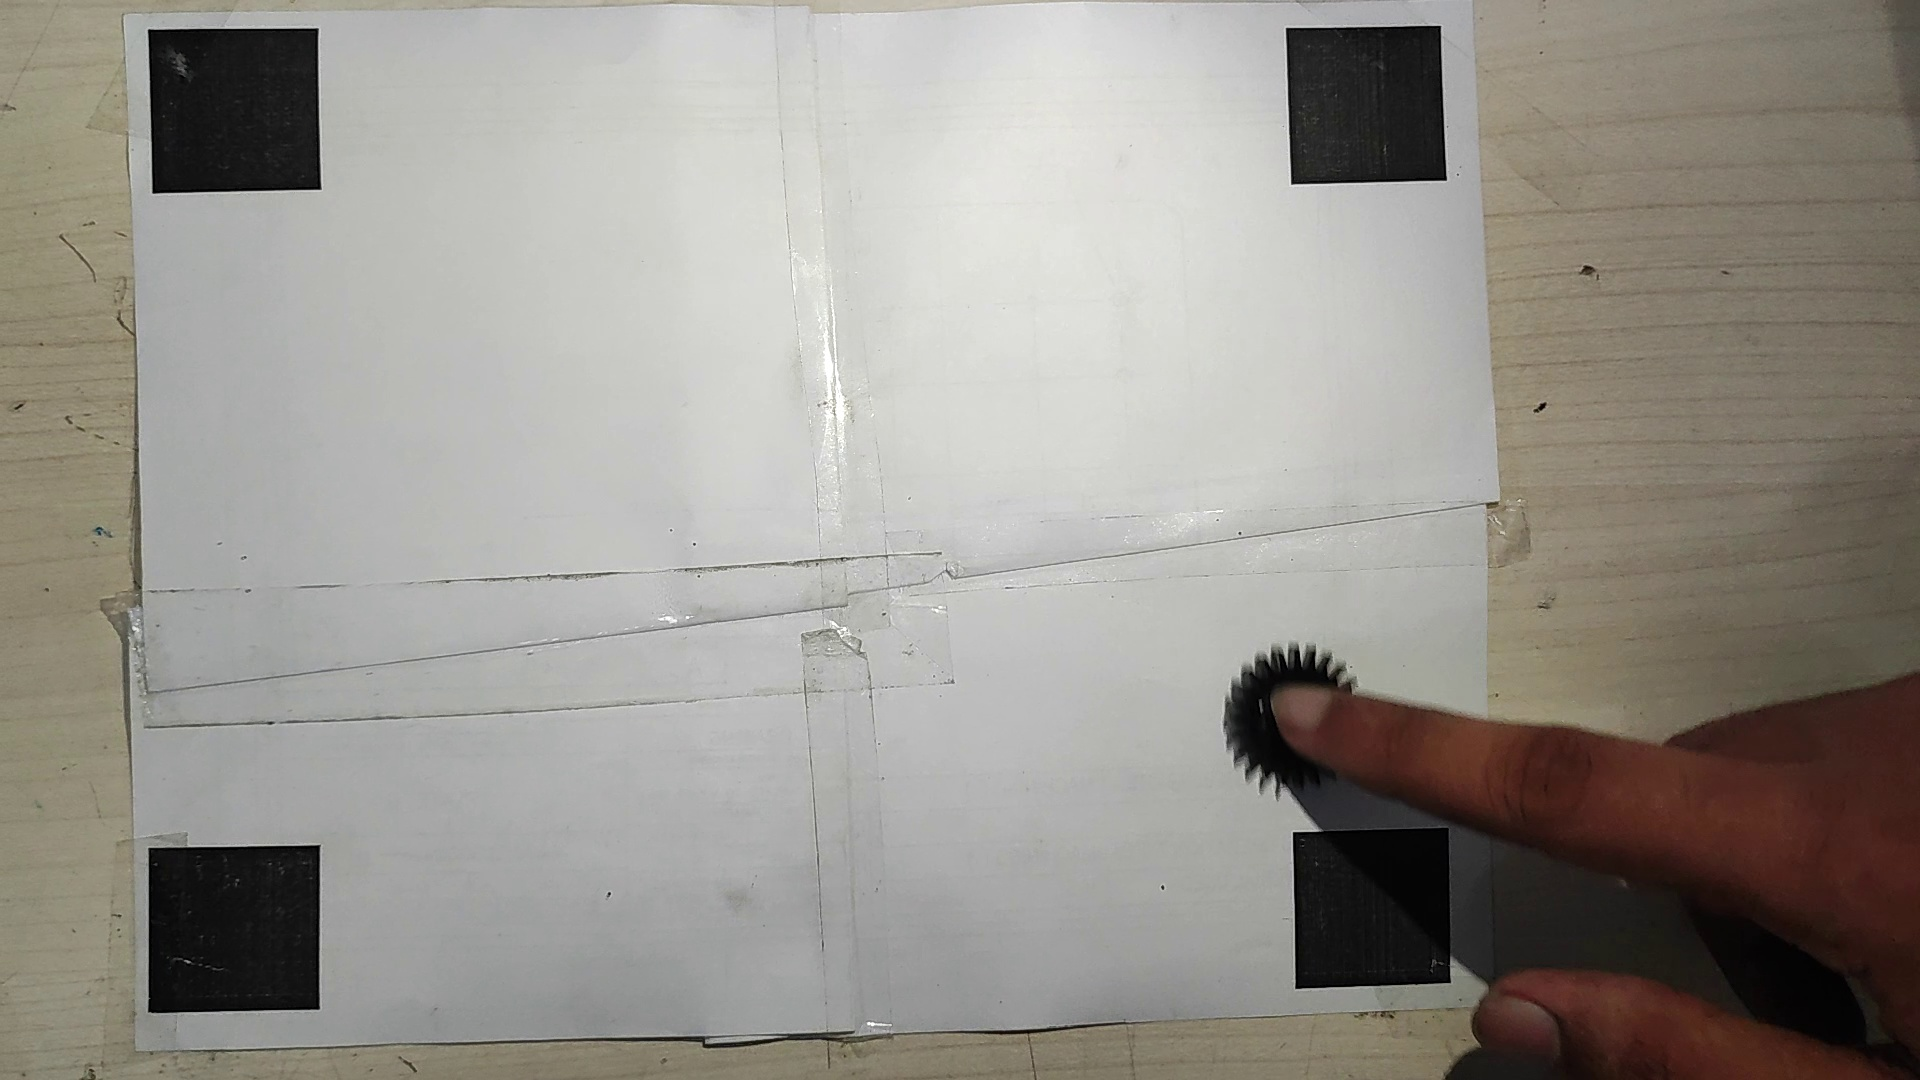Gear: (1221, 642, 1366, 798)
